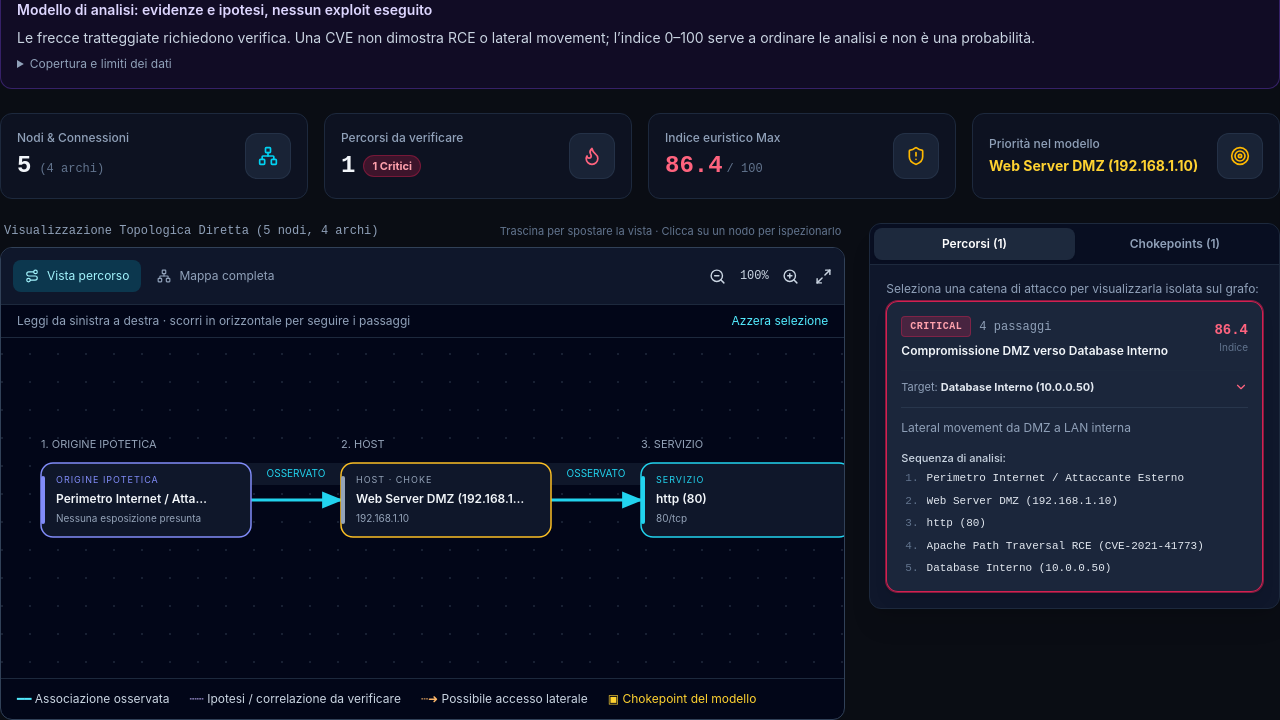
Test: AttackPath Page - Visual Graph Explorer & Chokepoints › non ricarica il grafo cambiando selezione e rende disponibile la guida
This screenshot has width=1280, height=720.
(page scrolled)
Click the button with aria-label "Seleziona percorso": (1075, 446) [886,301,1263,592]
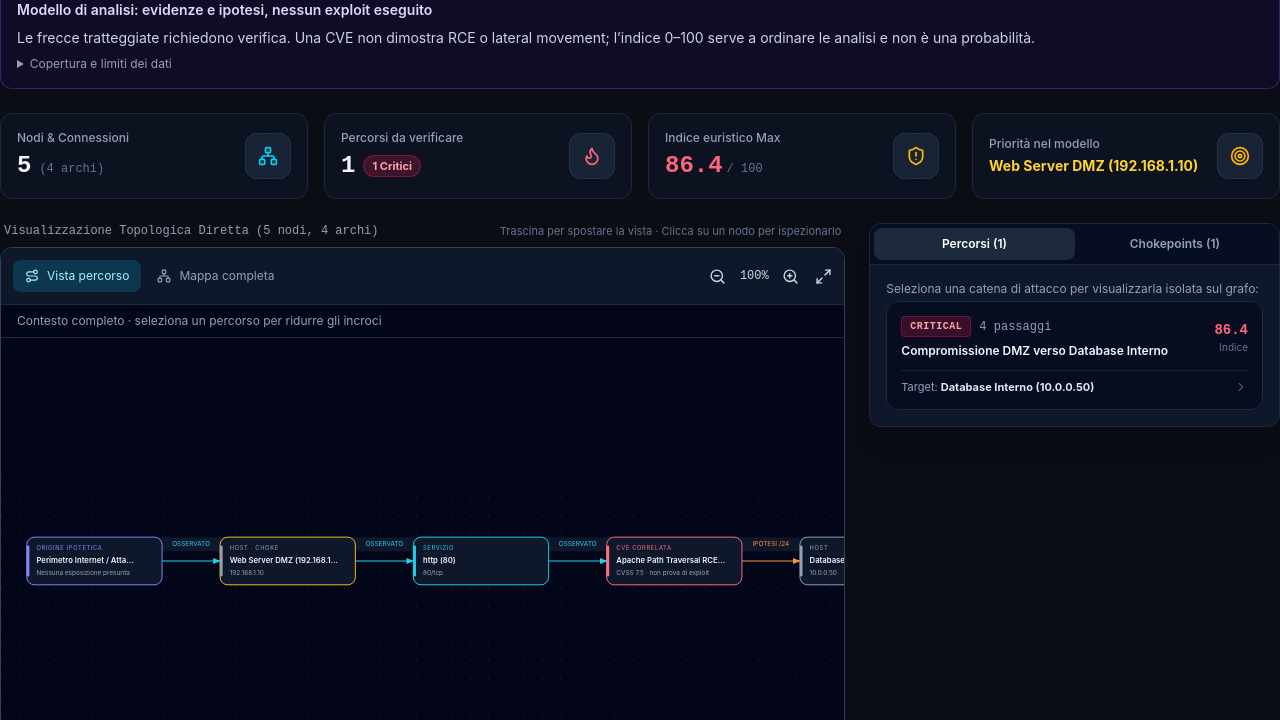
Click the button with aria-label "Seleziona percorso": (1075, 356) [886,301,1263,410]
(page scrolled)
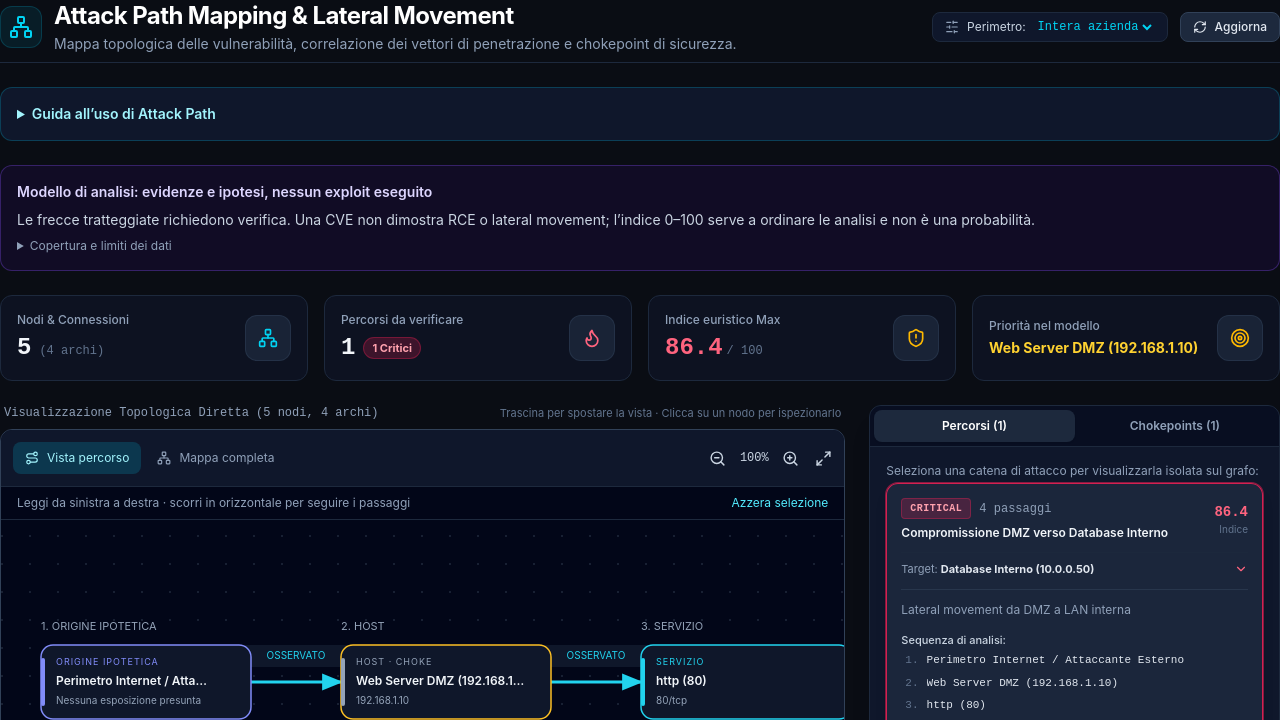
Click the heading "Guida all’uso di Attack Path": (124, 114) [32,105,216,122]
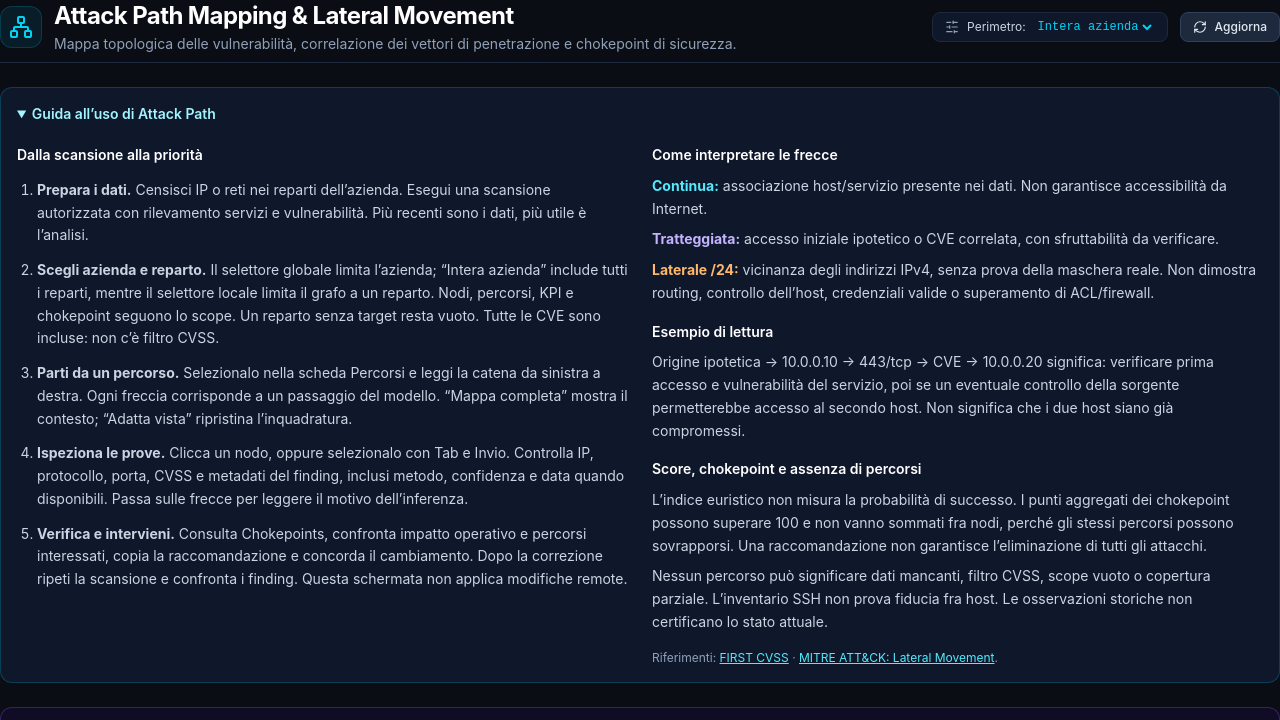
Check: the heading "Dalla scansione alla priorità" is shown, box [17,146,203,163]
